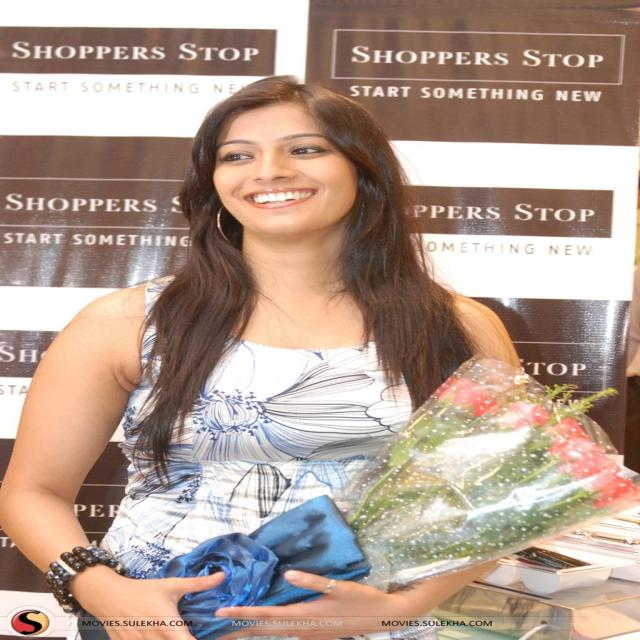Face: (152, 92, 406, 247)
